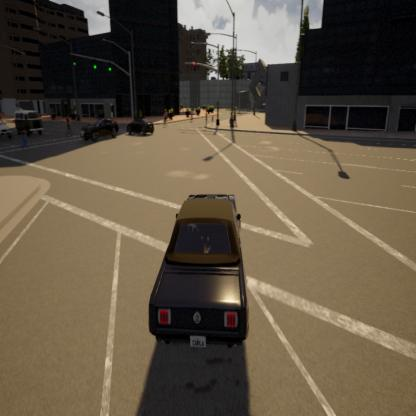Cars: (140, 164, 258, 360), (75, 116, 123, 144), (12, 103, 48, 139), (129, 112, 155, 138), (0, 101, 13, 145)
Pedestrian: (20, 124, 29, 150), (66, 111, 72, 143), (162, 107, 169, 132), (204, 109, 208, 127)
